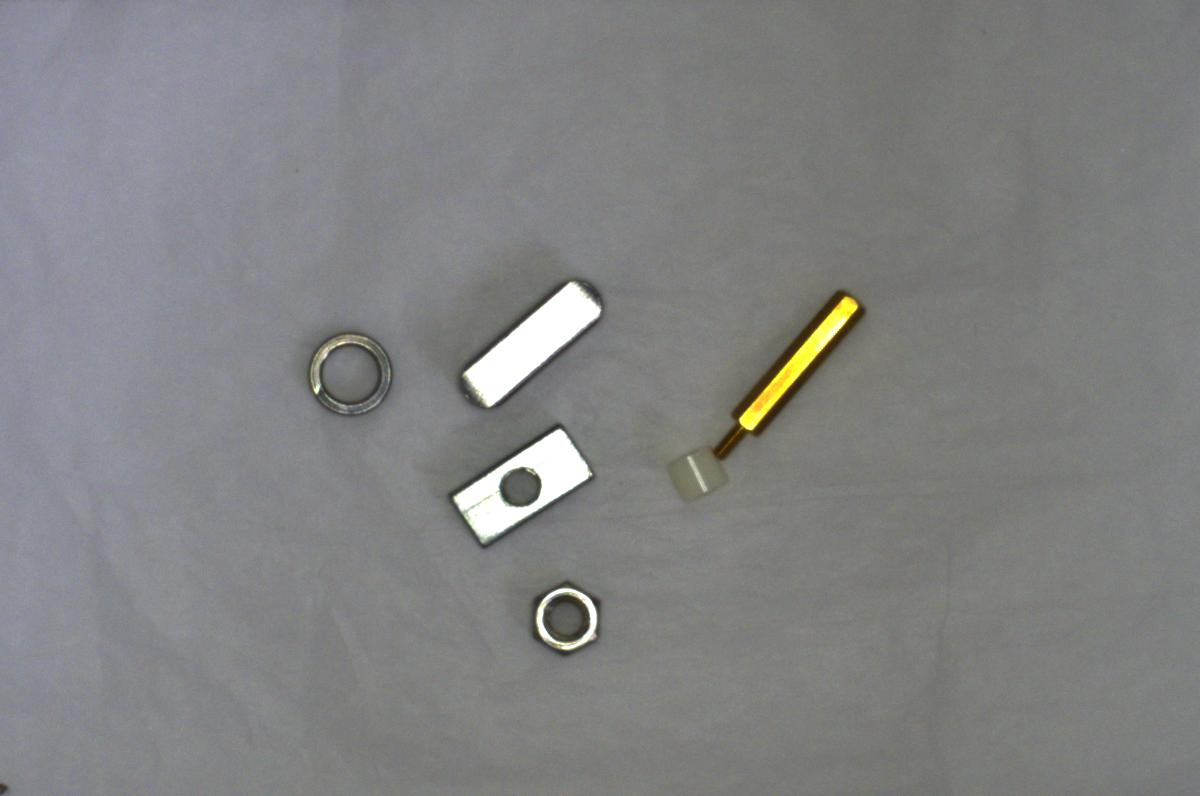Hexagon nut: (527, 578, 613, 661)
Hexagon pillar: (705, 285, 864, 458)
Keybar: (444, 262, 619, 415)
Plastic cushion pillar: (652, 440, 735, 509)
Rectangular nut: (442, 420, 594, 552)
Spring washer: (297, 325, 401, 425)
